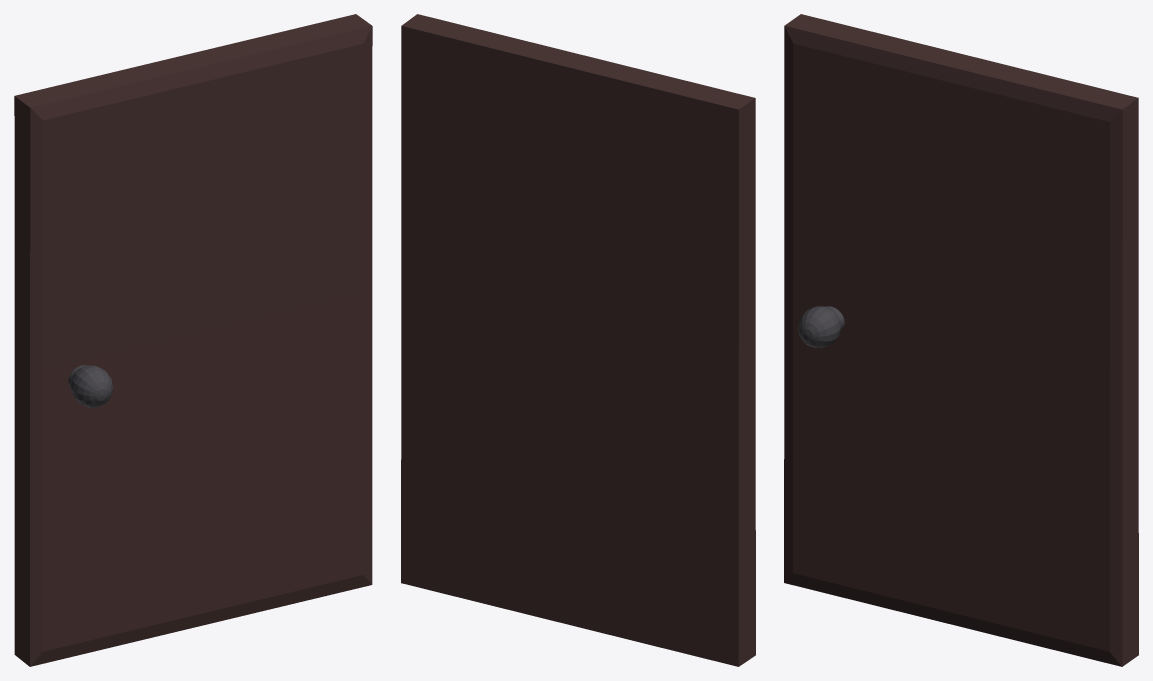
File: Door.fbx
3 renders of one model, left to right at view 1: azimuth 30°, elevation 25°; view 2: azimuth 150°, elevation 25°; view 3: azimuth 330°, elevation 25°, orthographic.
Visible parts, largest first — view 1: Hut.001; view 2: Hut.001; view 3: Hut.001.
Boxes of the visible parts, box(x1,y1,x2,y2) form: Hut.001: box(14, 14, 372, 666); Hut.001: box(401, 14, 755, 666); Hut.001: box(784, 14, 1138, 666).
Size of the model in its own units: 437 by 685 by 90.94.
